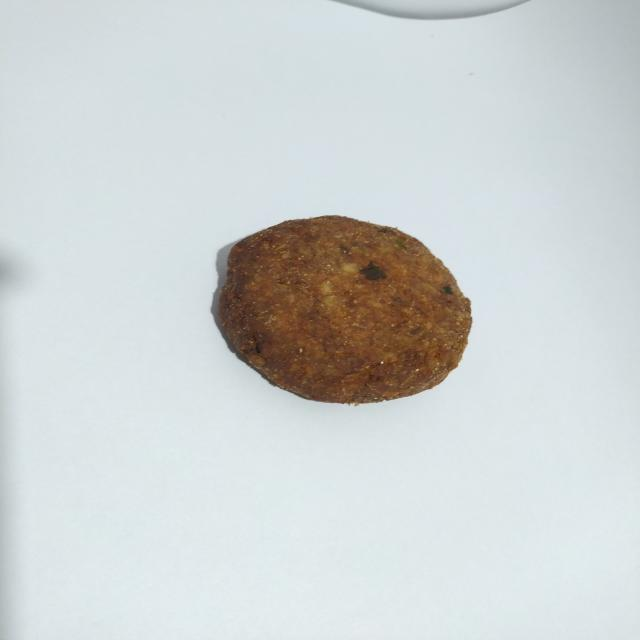Food: (200, 198, 493, 414)
